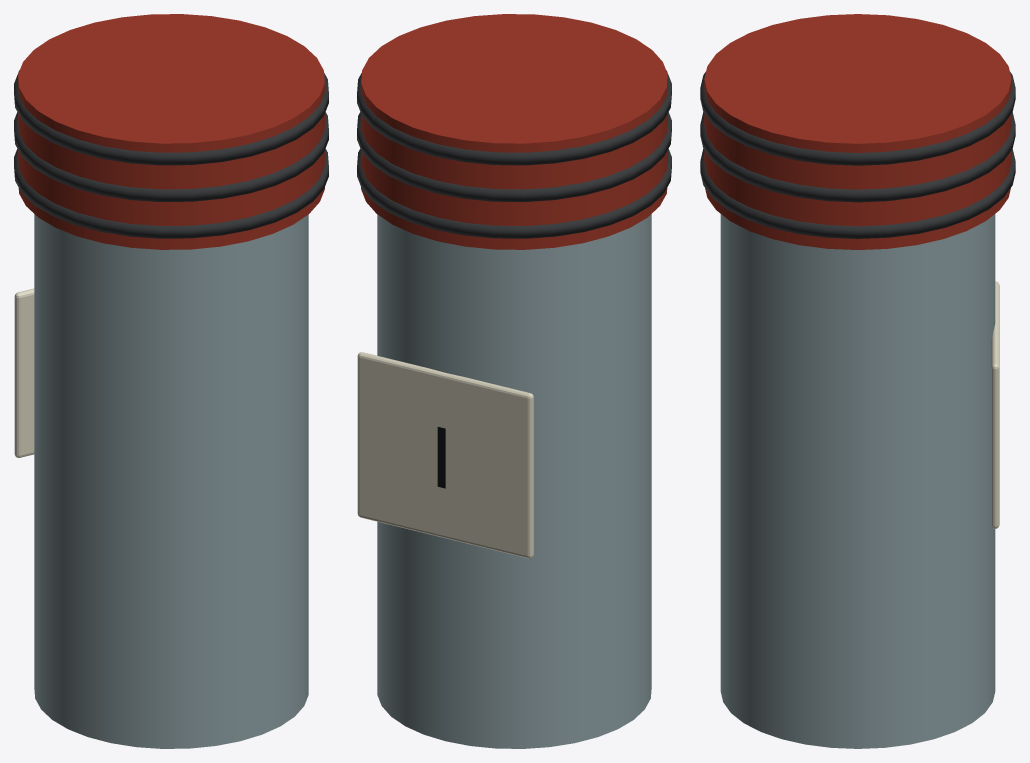
The model's file is specimen_a.glb.
3 renders of one model, left to right at view 1: azimuth 30°, elevation 25°; view 2: azimuth 150°, elevation 25°; view 3: azimuth 270°, elevation 25°, orthographic.
Parts seen in each view (by area): view 1: specimen_a; view 2: specimen_a; view 3: specimen_a.
Part boxes in pixels (bbox=[...]): specimen_a: bbox=[14, 14, 328, 748]; specimen_a: bbox=[357, 14, 671, 748]; specimen_a: bbox=[700, 14, 1015, 748].
Bounding box in the file's own units: 0.078 × 0.167 × 0.078.
